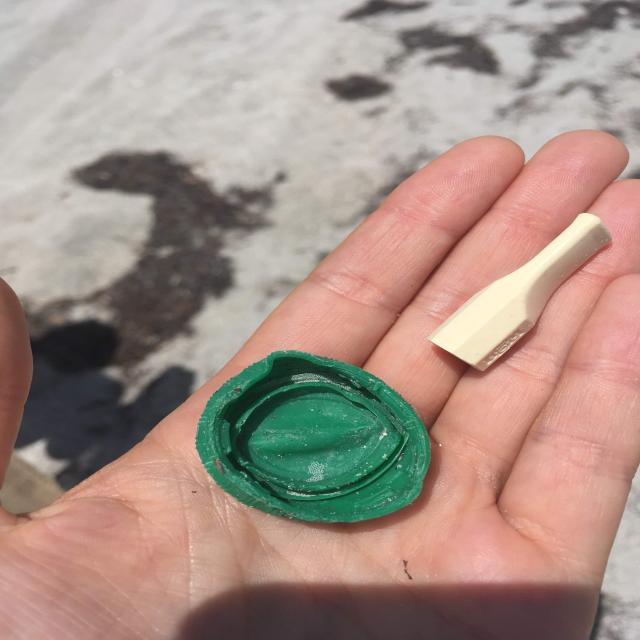litter: (120, 311, 454, 541)
